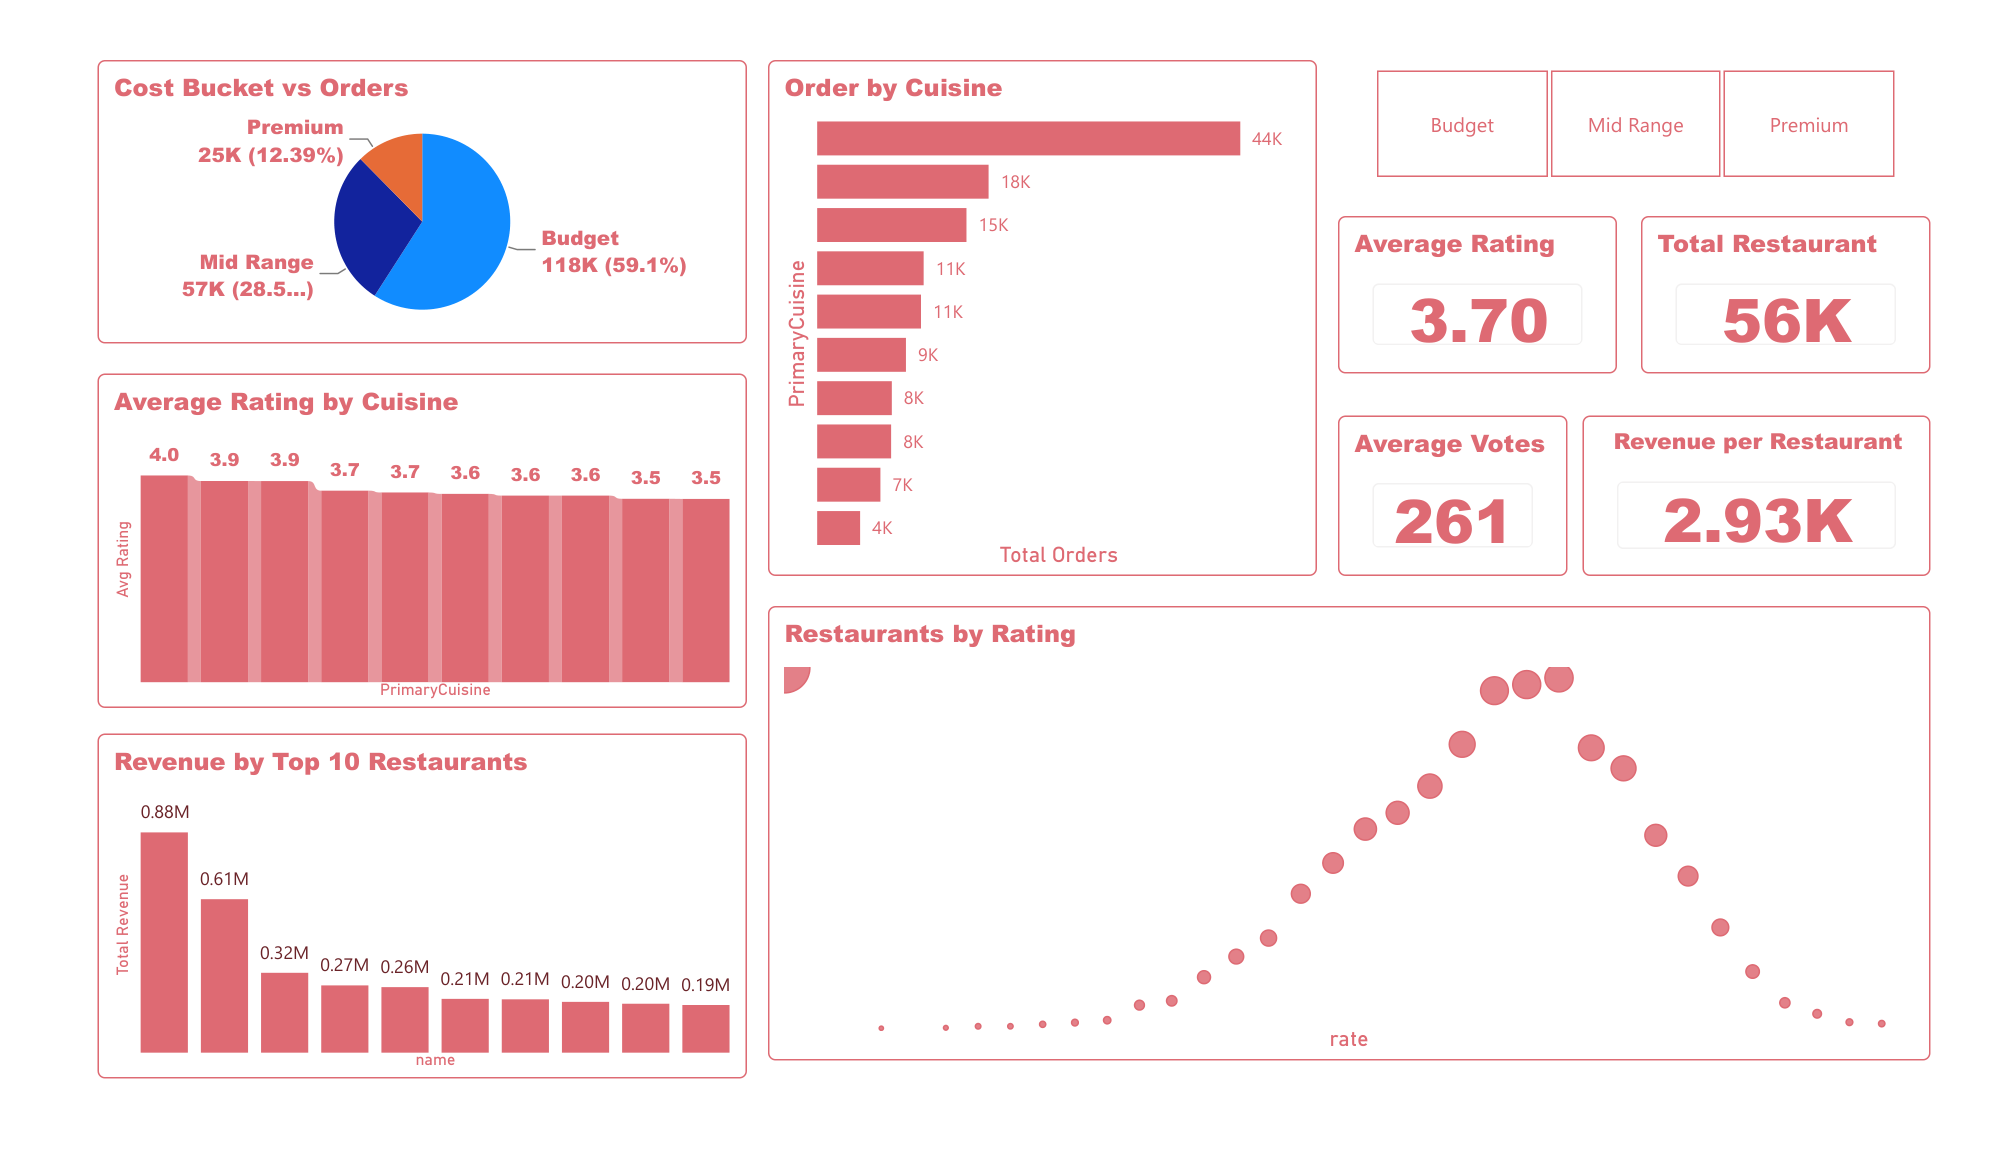

The dashboard page shown, as its layout file describes it:
{"tool":"powerbi","page":{"name":"Restaurant Perfomance","canvas":[1280,720],"ordinal":2},"visuals":[{"type":"cardVisual","title":"Total Restaurant ","fields":{"Data":["Orders.Total Restaurants"]},"box":[1070,120,192.5,105],"z":0},{"type":"cardVisual","title":"Average Rating","fields":{"Data":["Orders.Avg Rating"]},"box":[867.5,120,186.2,105],"z":1000},{"type":"cardVisual","title":"Average Votes","fields":{"Data":["Orders.Avg Votes"]},"box":[867.5,252.5,153.8,107.5],"z":2000},{"type":"cardVisual","title":"Revenue per Restaurant ","fields":{"Data":["Orders.Revenue per Restaurant"]},"box":[1031.2,252.5,231.2,107.5],"z":3000},{"type":"barChart","title":"Order by Cuisine ","fields":{"Category":["Restaurants.PrimaryCuisine"],"Y":["Orders.Total Orders"]},"box":[487.5,16.2,366.2,343.8],"z":4000},{"type":"columnChart","title":" Revenue by Top 10 Restaurants","fields":{"Category":["Restaurants.name"],"Y":["Orders.Total Revenue"]},"box":[41.2,465,432.5,230],"z":5000},{"type":"columnChart","title":"Average Rating by Cuisine","fields":{"Y":["Orders.Avg Rating"],"Category":["Restaurants.PrimaryCuisine"]},"box":[41.2,225,432.5,222.5],"z":6000},{"type":"scatterChart","title":"Restaurants by Rating","fields":{"X":["Restaurants.rate"],"Y":["Orders.Total Revenue"],"Size":["Orders.Total Orders"]},"box":[487.5,380,775,302.5],"z":7000},{"type":"pieChart","title":"Cost Bucket vs Orders","fields":{"Category":["Restaurants.Cost Bucket"],"Y":["Orders.Total Orders"]},"box":[41.2,16.2,432.5,188.8],"z":8000},{"type":"slicer","fields":{"Values":["Restaurants.Cost Bucket"]},"box":[867.5,16.2,395,85],"z":9000}]}

Visuals, with their boxes in screenshot pixels (x1, y1, x2, y2), scaled from the page's 1280x720 canvas onto the 1992x1152 screenshot:
"Total Restaurant " cardVisual: box=[1665, 192, 1965, 360]
"Average Rating" cardVisual: box=[1350, 192, 1640, 360]
"Average Votes" cardVisual: box=[1350, 404, 1589, 576]
"Revenue per Restaurant " cardVisual: box=[1605, 404, 1965, 576]
"Order by Cuisine " barChart: box=[759, 26, 1329, 576]
" Revenue by Top 10 Restaurants" columnChart: box=[64, 744, 737, 1112]
"Average Rating by Cuisine" columnChart: box=[64, 360, 737, 716]
"Restaurants by Rating" scatterChart: box=[759, 608, 1965, 1092]
"Cost Bucket vs Orders" pieChart: box=[64, 26, 737, 328]
slicer - Restaurants.Cost Bucket: box=[1350, 26, 1965, 162]
